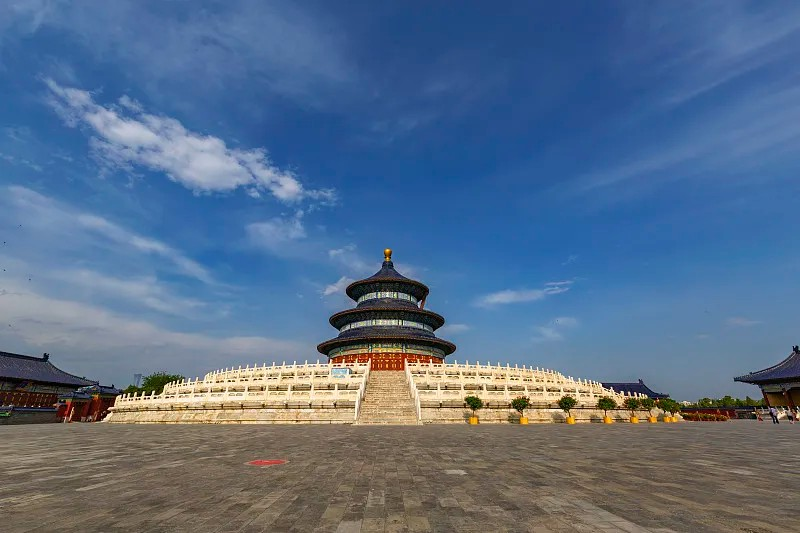Heaven: (317, 246, 455, 371)
